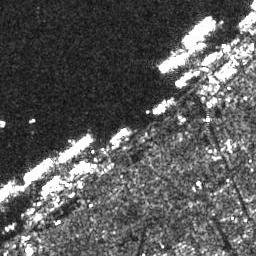ship: (180, 14, 217, 46), (18, 156, 52, 182), (174, 69, 196, 89), (106, 124, 128, 143), (151, 96, 173, 115), (27, 116, 36, 123)
